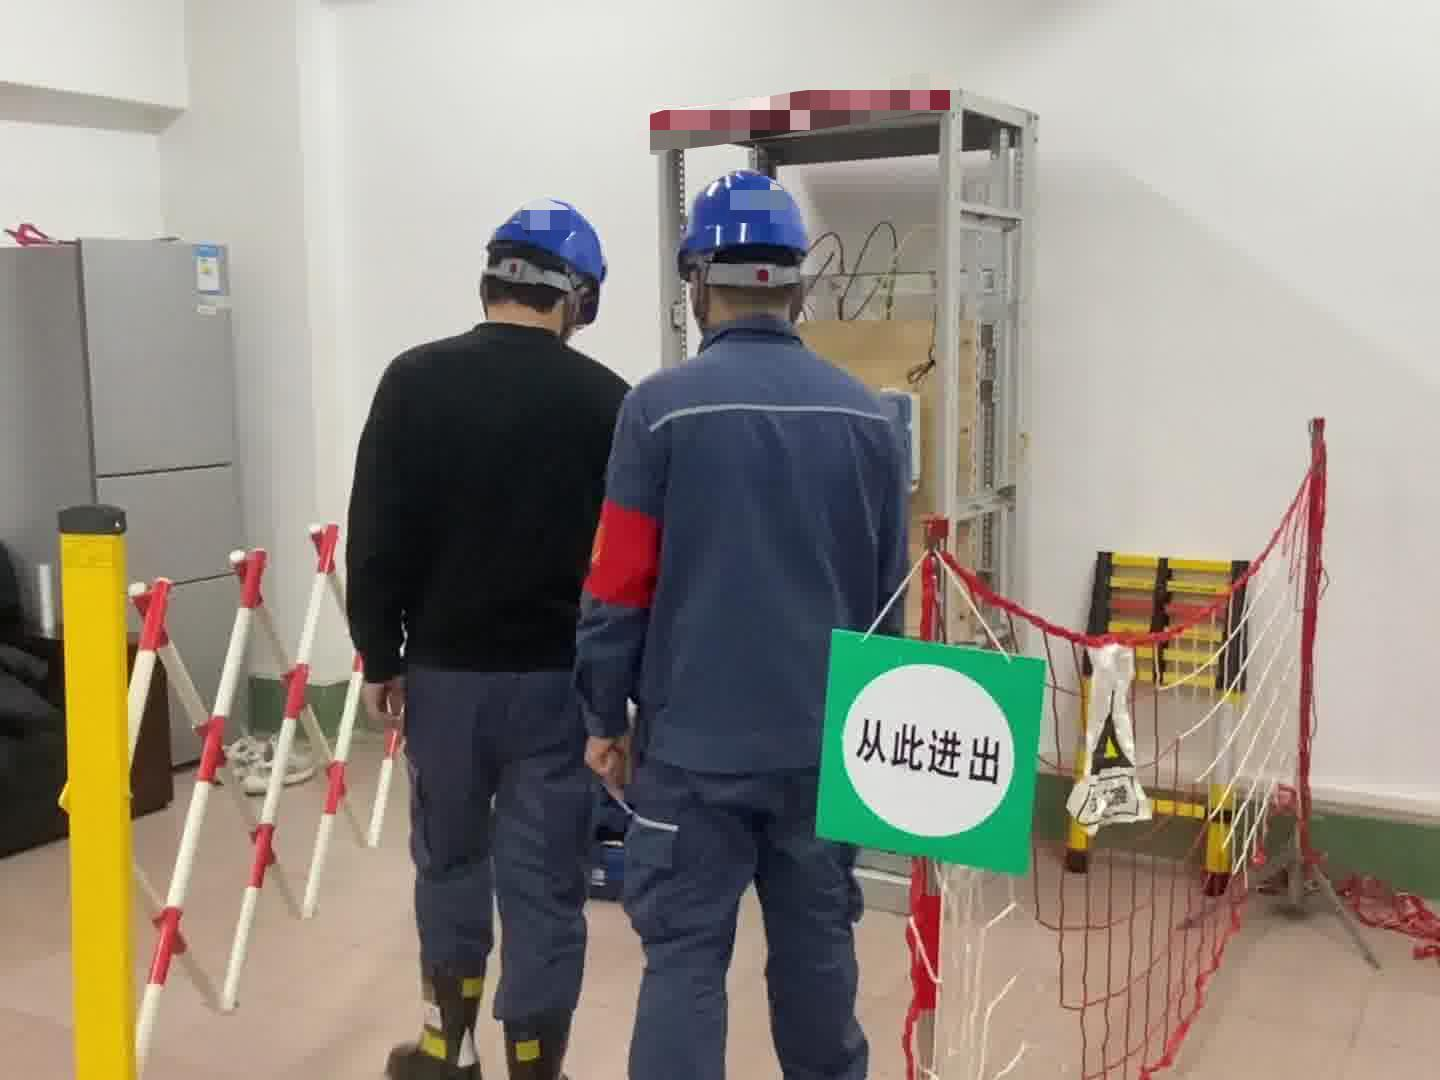halt: (675, 172, 818, 338), (478, 202, 613, 340)
